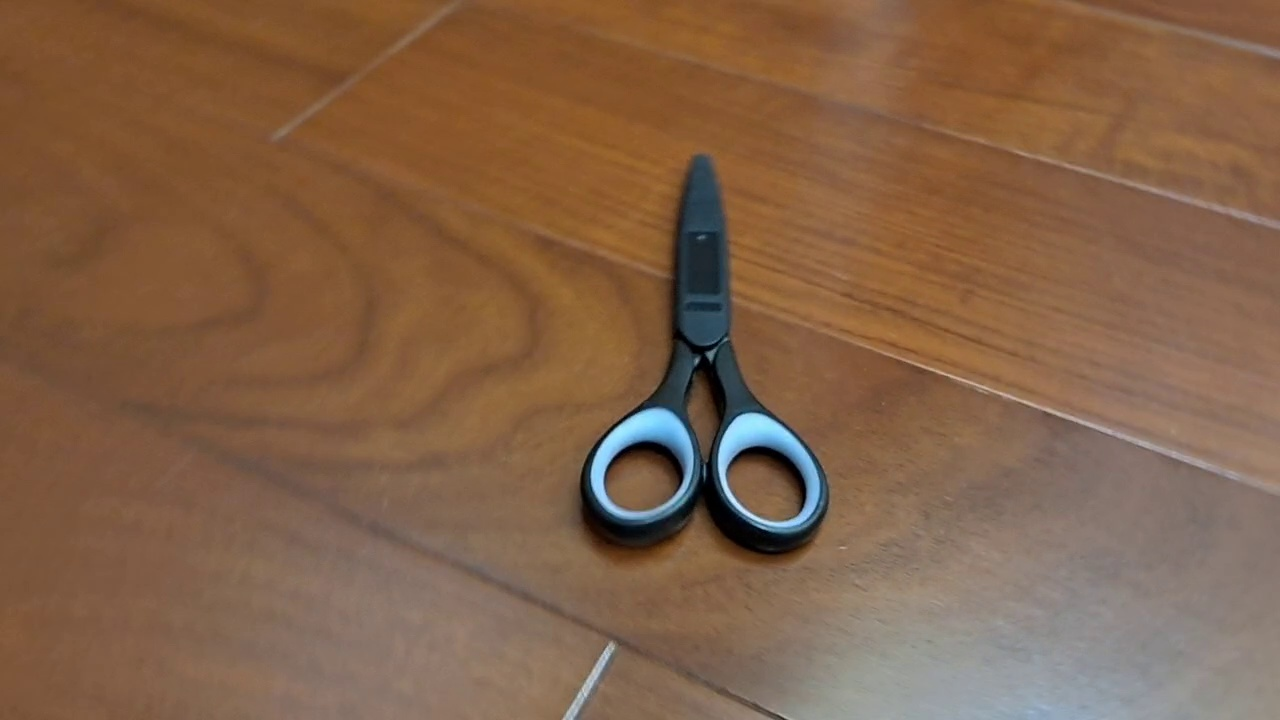scissors: (577, 151, 830, 557)
